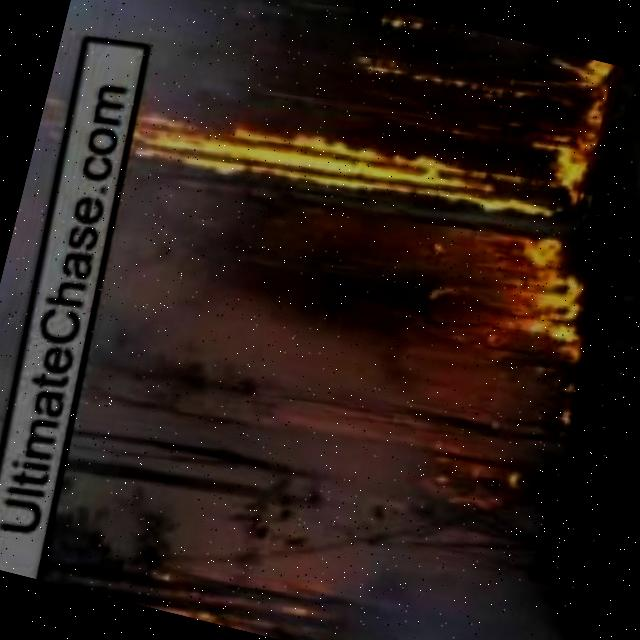fire: (119, 77, 593, 279), (354, 3, 620, 135), (435, 209, 613, 384), (396, 403, 564, 545), (54, 511, 255, 629), (527, 112, 609, 192)
